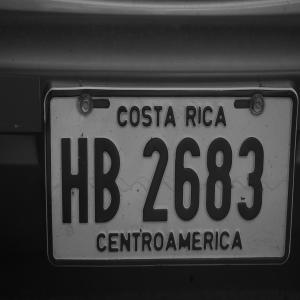Vehicle-registration-plate: (47, 85, 300, 269)
